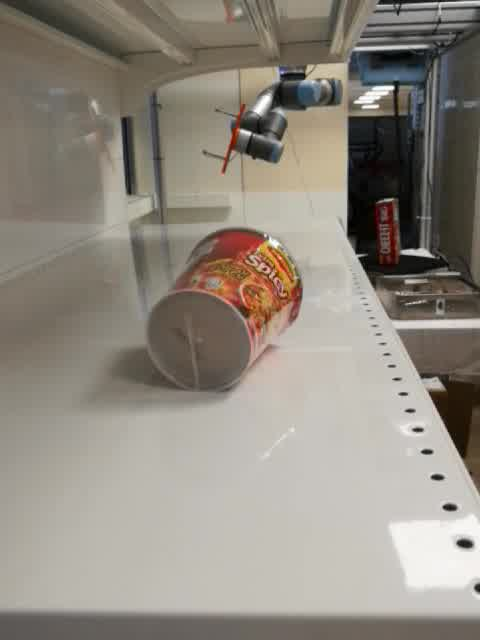maggi: (143, 226, 304, 393)
